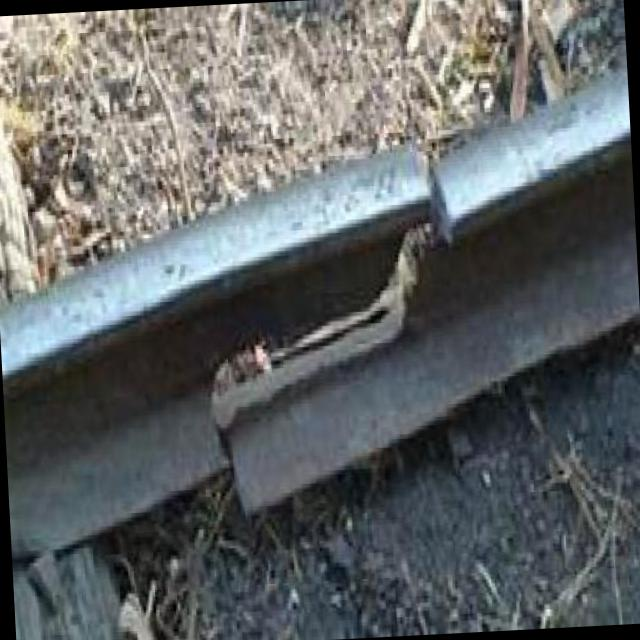defective: (82, 76, 598, 612)
